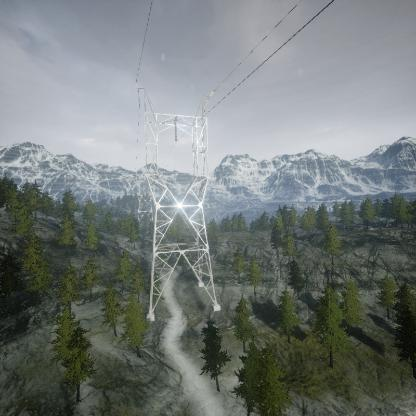tower: (126, 78, 223, 324)
